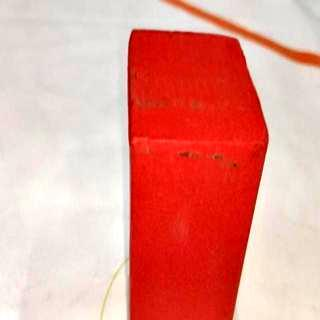redbox: (127, 27, 270, 320)
